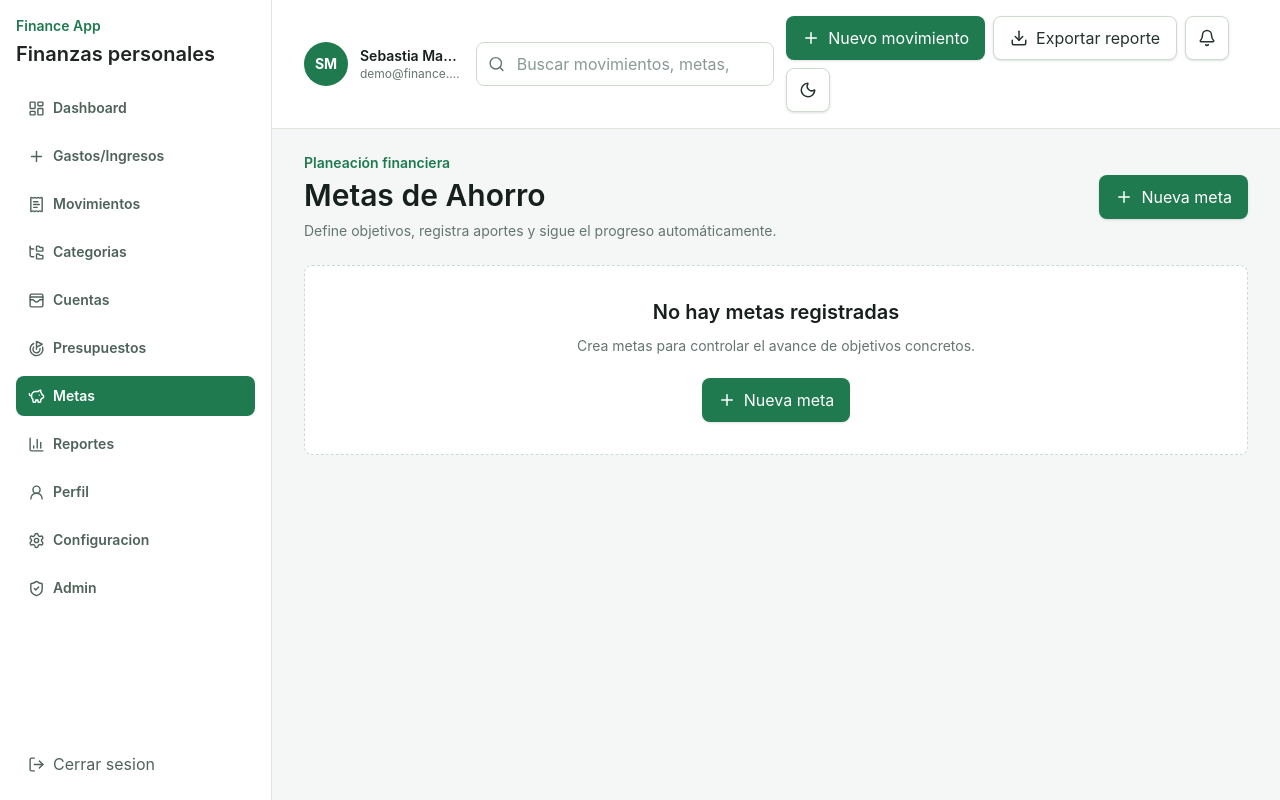
Scenario: HU-03 Planeacion Financiera › permite crear una meta de ahorro desde /savings-goals
Check: the heading "Metas de Ahorro" is shown, box [304,177,546,213]
Check: the heading "No hay metas registradas" is shown, box [653,300,899,324]
Click the button "Nueva meta" in the row of "Metas de Ahorro": (1174, 197) [1099,175,1248,219]
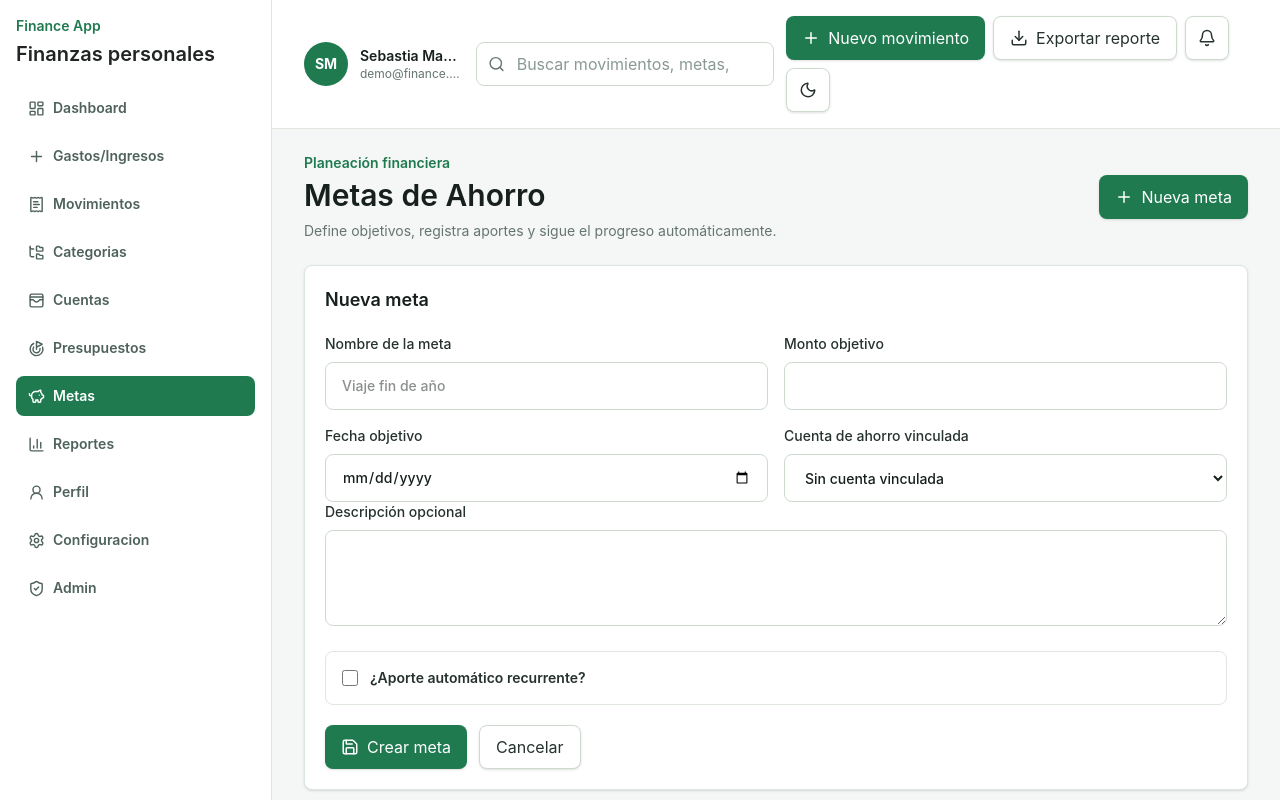
In the field labelled "Nombre de la meta": (546, 386) [325,362,768,410], type "Viaje fin de ano"
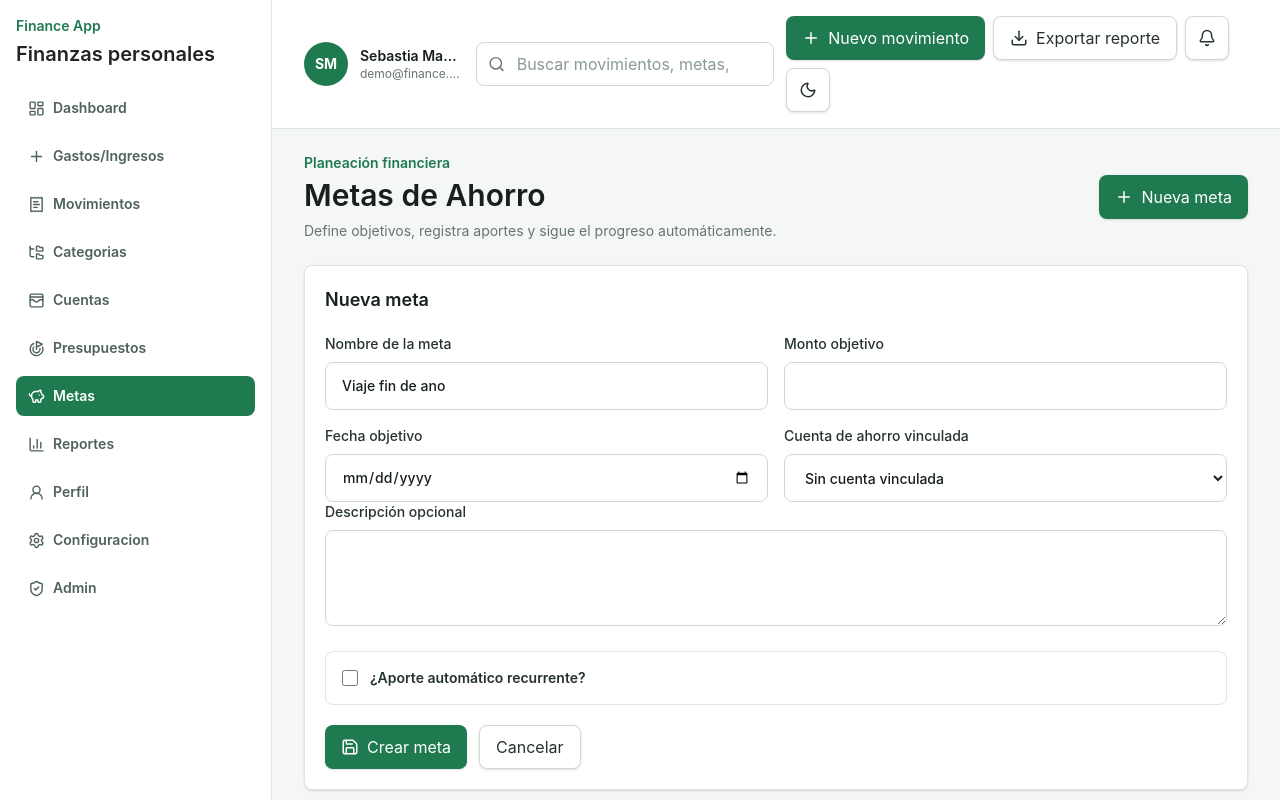
In the number field labelled "Monto objetivo": (1006, 386) [784,362,1227,410], type "2500000"
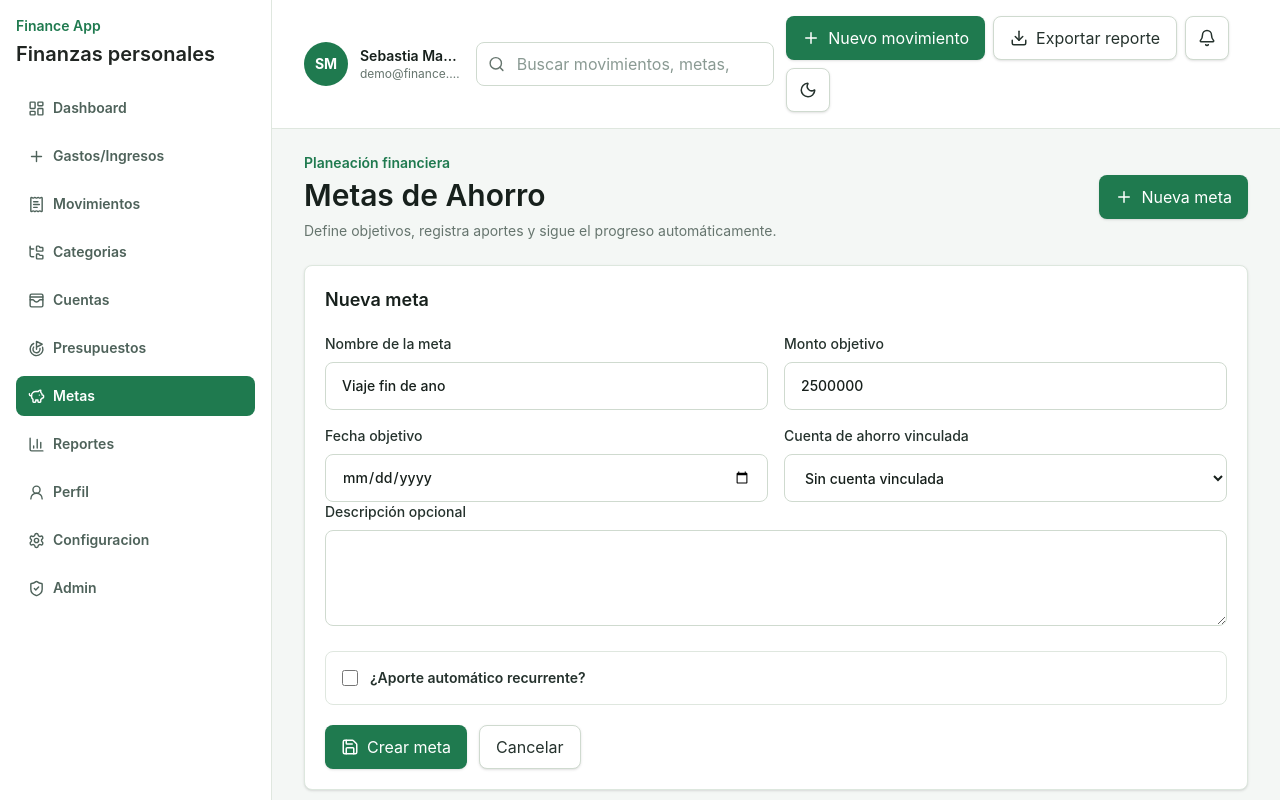
In the date field labelled "Fecha objetivo": (546, 478) [325,454,768,502], type "2026-12-20"
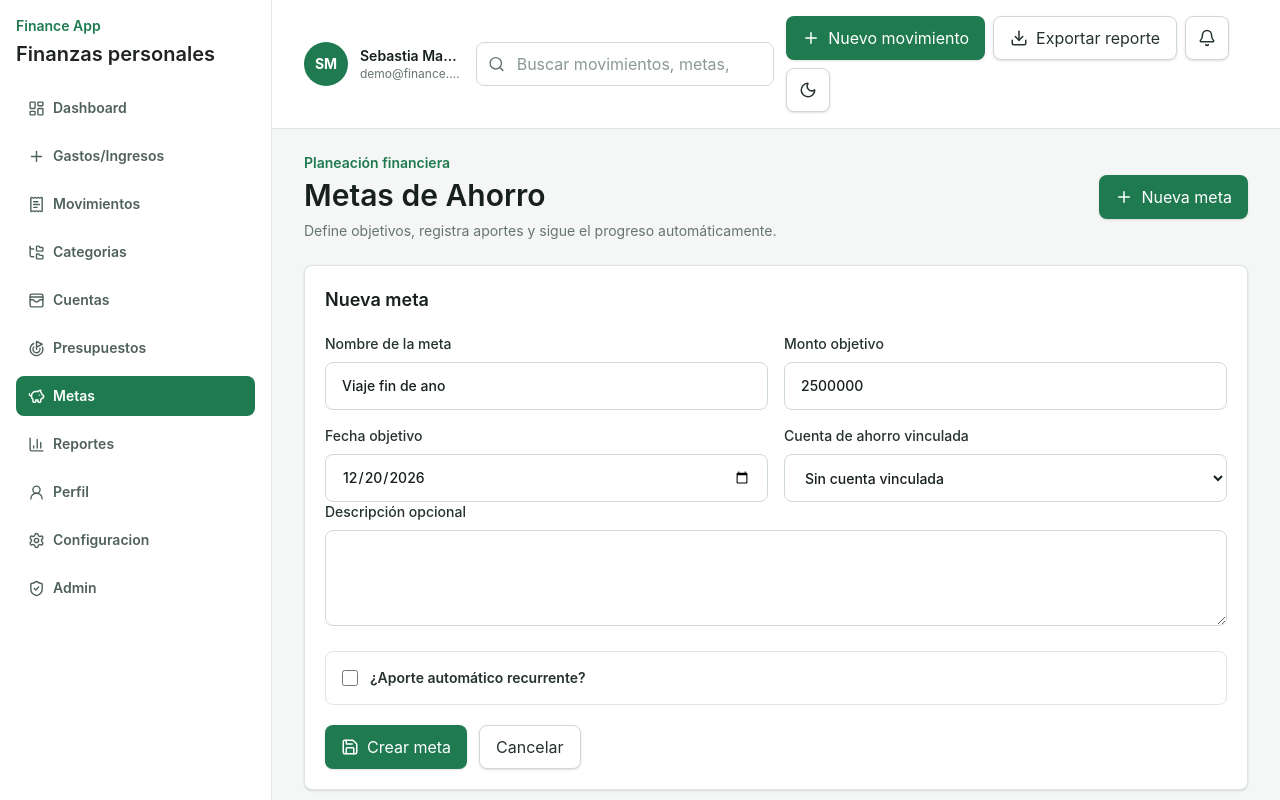
Click the button "Crear meta": (396, 747) [325,725,467,769]
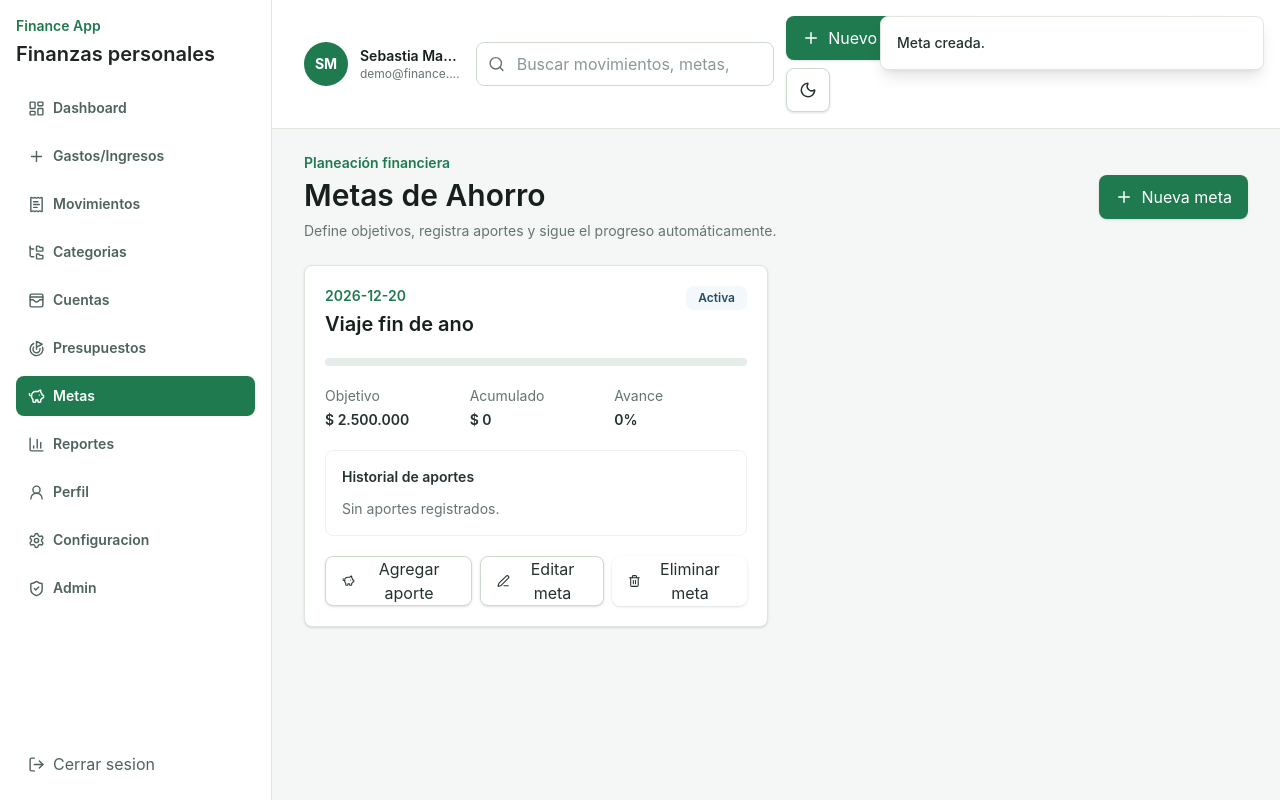
Check: the heading "Viaje fin de ano" is shown, box [325,310,474,338]
Check: the text "$ 2.500.000" is shown, box [325,411,409,428]
